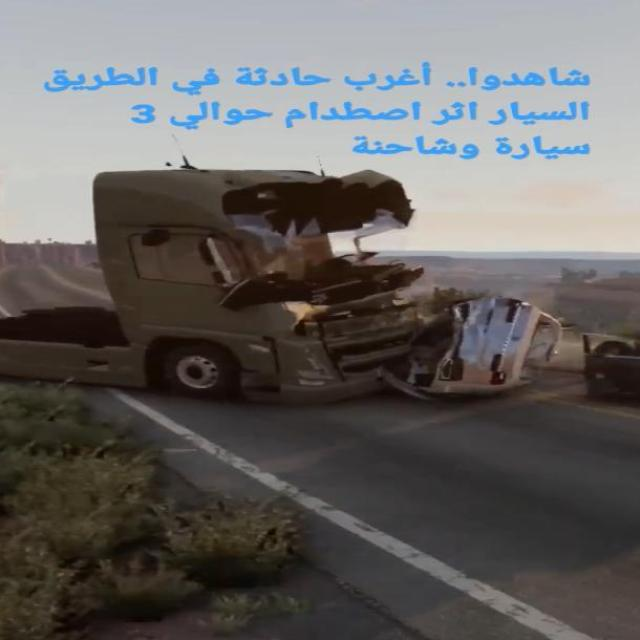accident: (75, 163, 573, 405)
